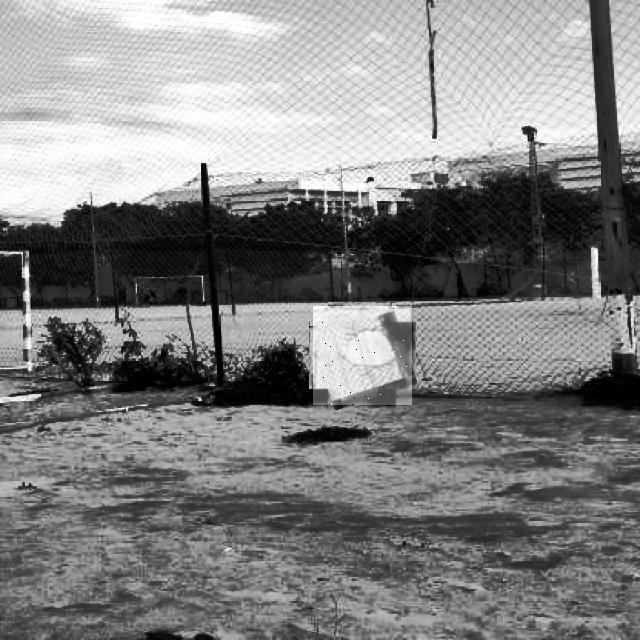anomaly-fence: (313, 306, 412, 405)
